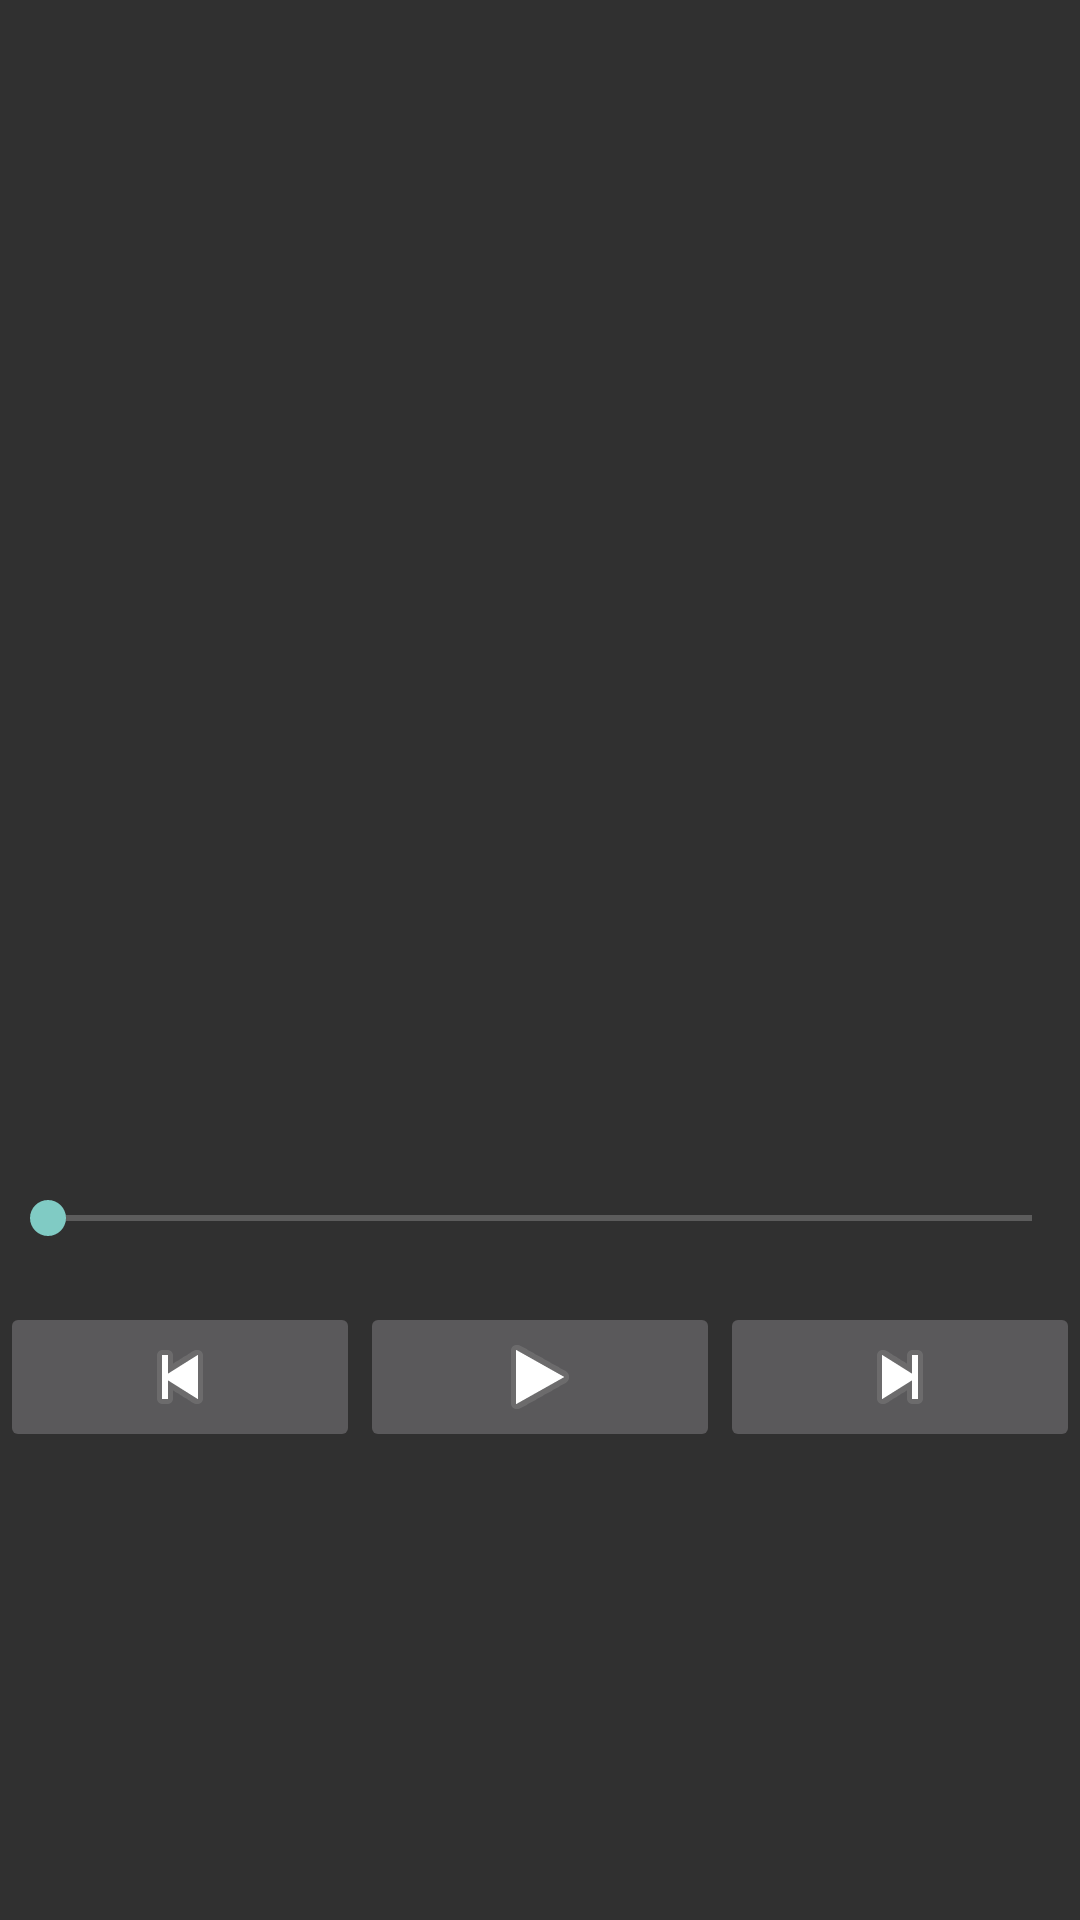

Named icons in this screenshot (1080x1920) and their centers, [x,y]:
next: [900,1377]
play: [540,1377]
previous: [180,1377]
